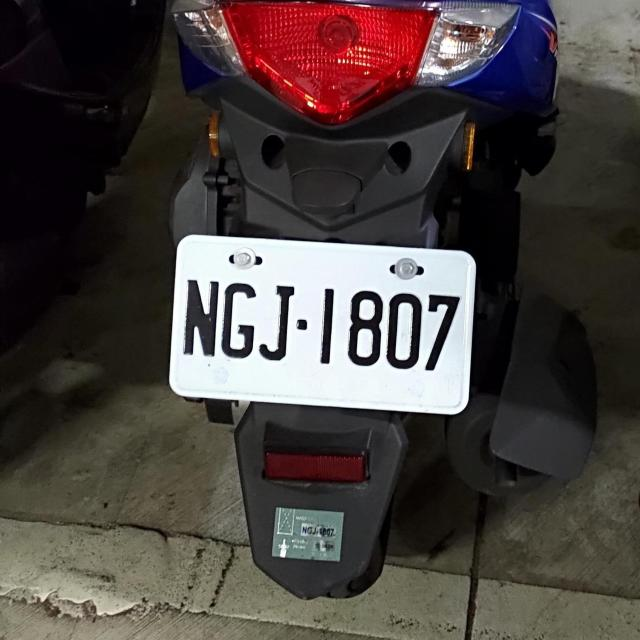W: (165, 232, 479, 413)
